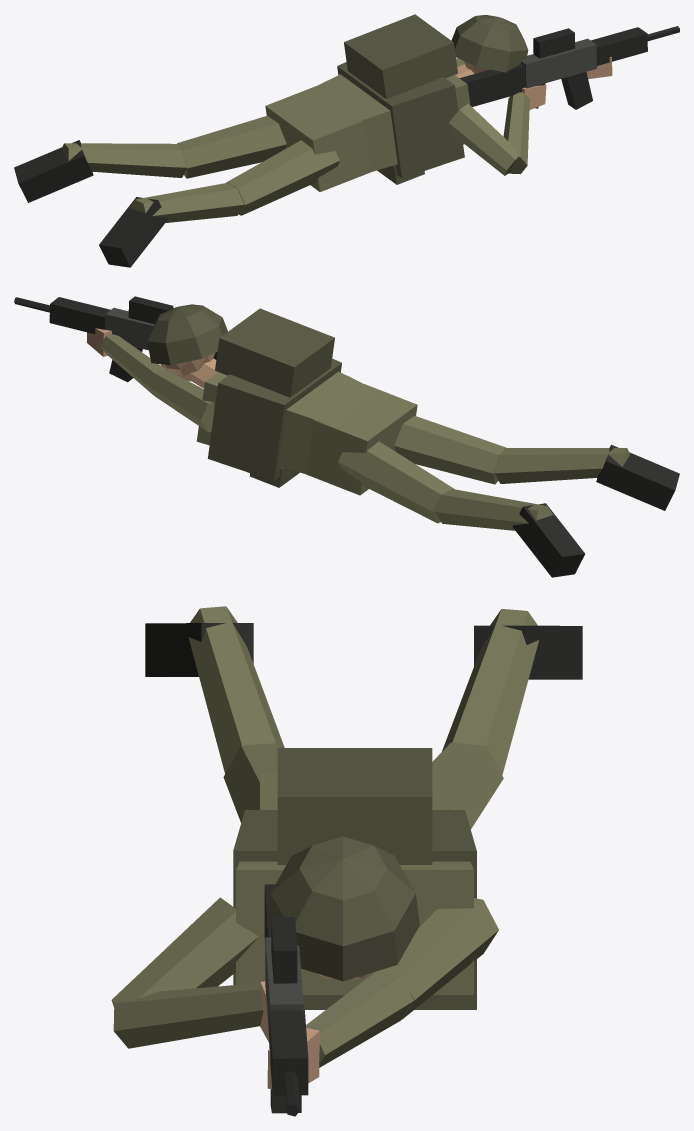
The model's file is soldier_prone.glb.
3 renders of one model, top to bottom at view 1: azimuth 30°, elevation 25°; view 2: azimuth 150°, elevation 25°; view 3: azimuth 270°, elevation 25°, orthographic. The views are drawn at different scales.
Parts seen in each view (by area): view 1: soldier; view 2: soldier; view 3: soldier.
Part boxes in pixels (bbox=[...]): soldier: bbox=[14, 14, 679, 267]; soldier: bbox=[14, 296, 679, 577]; soldier: bbox=[111, 606, 582, 1116].
Size of the model in its own units: 2.34 by 0.4667 by 0.7925.
